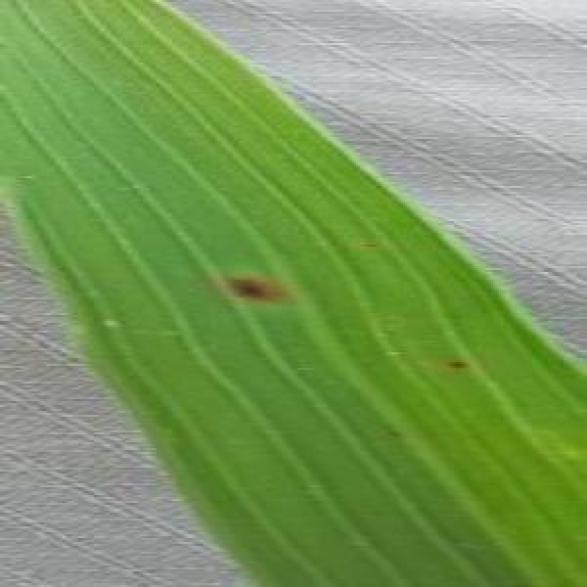Brown_Spot: (210, 256, 302, 319), (435, 348, 474, 378), (349, 231, 384, 256), (376, 419, 409, 440)
